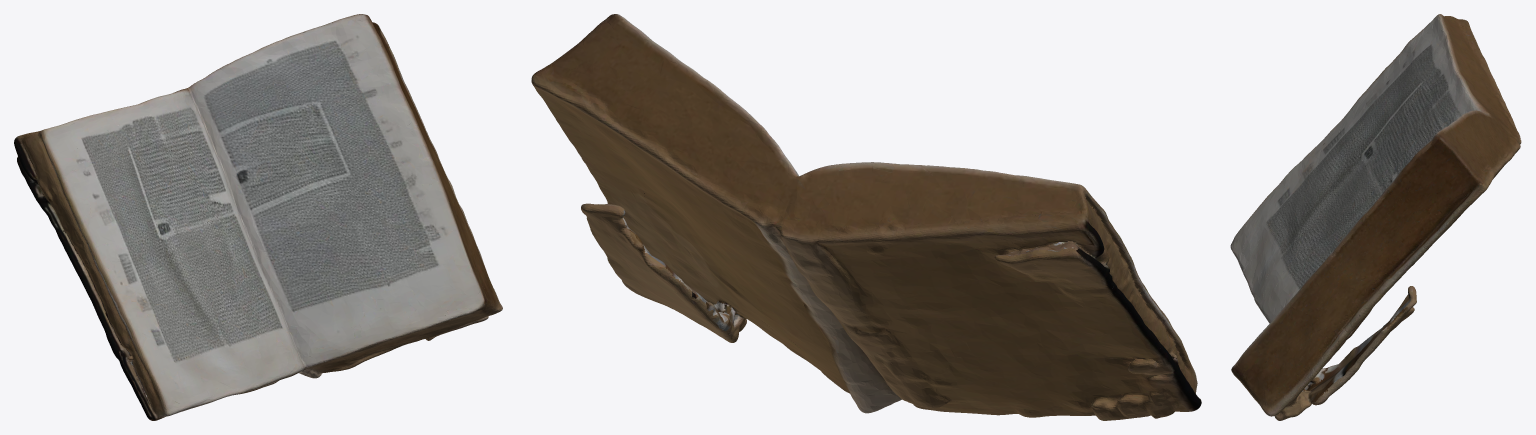
File: comp_starodruk.glb
3 renders of one model, left to right at view 1: azimuth 30°, elevation 25°; view 2: azimuth 150°, elevation 25°; view 3: azimuth 270°, elevation 25°, orthographic. The views are drawn at different scales.
Visible parts, largest first — view 1: geometry_0; view 2: geometry_0; view 3: geometry_0.
Part boxes in pixels (bbox=[...]): geometry_0: bbox=[14, 14, 502, 420]; geometry_0: bbox=[531, 14, 1201, 420]; geometry_0: bbox=[1230, 14, 1521, 420].
Size of the model in its own units: 1.99 by 1.41 by 1.24.
Materials: 1 (1 with a texture image).
